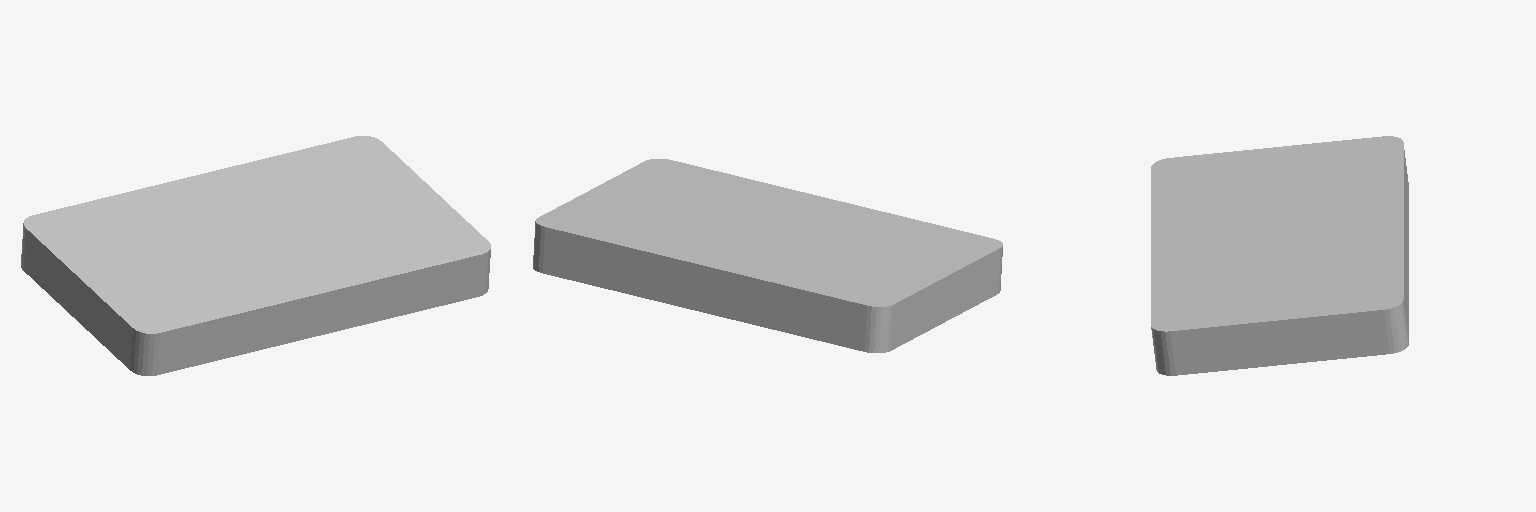
Rendered from original-2.obj.
3 views of the same model, side by side, from view 1: azimuth 30°, elevation 25°; view 2: azimuth 150°, elevation 25°; view 3: azimuth 270°, elevation 25° (orthographic).
Visible parts, largest first — view 1: mesh1/mesh1-geometry#mesh1-geometry; view 2: mesh1/mesh1-geometry#mesh1-geometry; view 3: mesh1/mesh1-geometry#mesh1-geometry.
Part boxes in pixels (x1,y1,x2,y2): mesh1/mesh1-geometry#mesh1-geometry: (21,136,490,375); mesh1/mesh1-geometry#mesh1-geometry: (533,159,1002,352); mesh1/mesh1-geometry#mesh1-geometry: (1151,136,1408,375).
Bounding box in the file's own units: 0.1061 × 0.0199 × 0.0667.